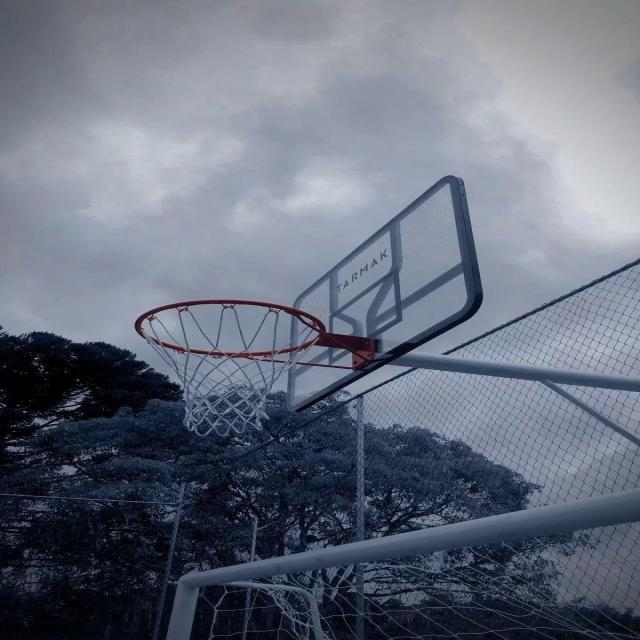hoop: (141, 280, 366, 435)
